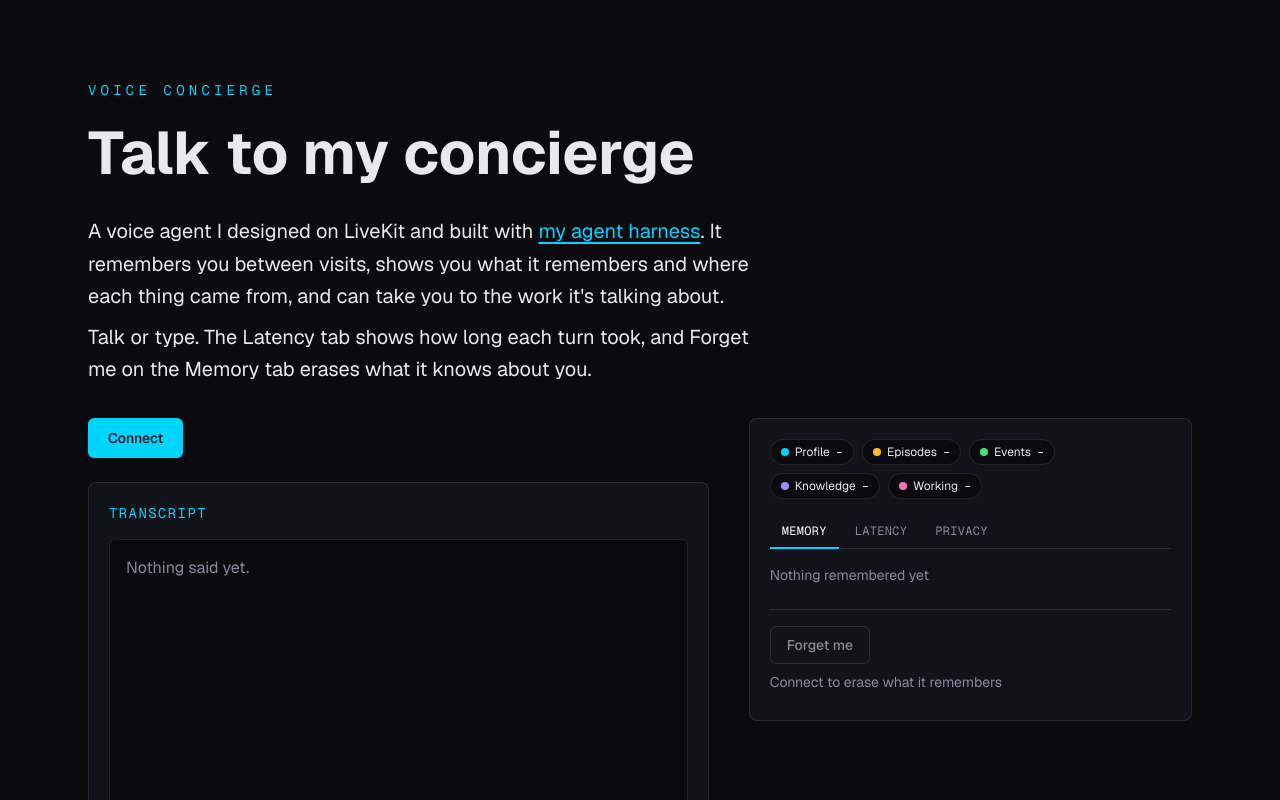
Test: TalkPage › unconfigured, Connect shows the offline line and makes no request
Click the button "Connect". click: [136, 438]
box: [88,418,183,458]
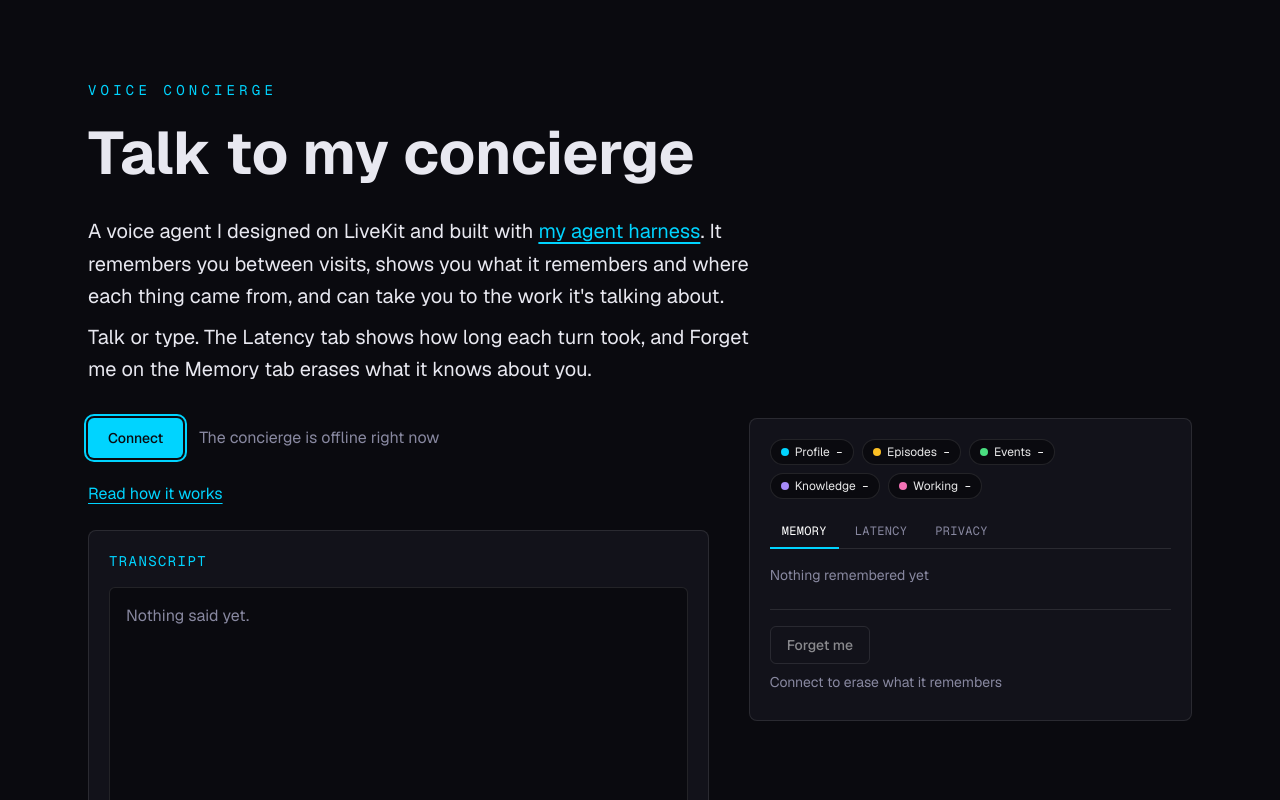
Check: the message reads "The concierge is offline right now", box [199,426,439,448]
